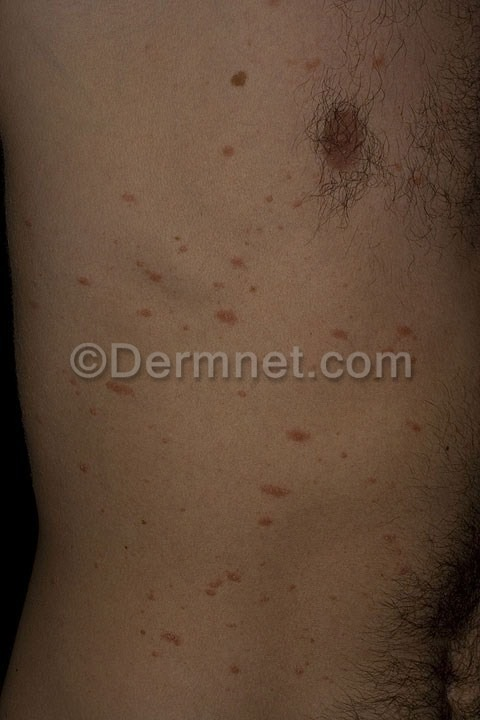Psoriasis: (58, 191, 277, 336), (127, 564, 288, 682), (231, 403, 311, 550), (59, 379, 146, 434), (315, 312, 426, 349)
